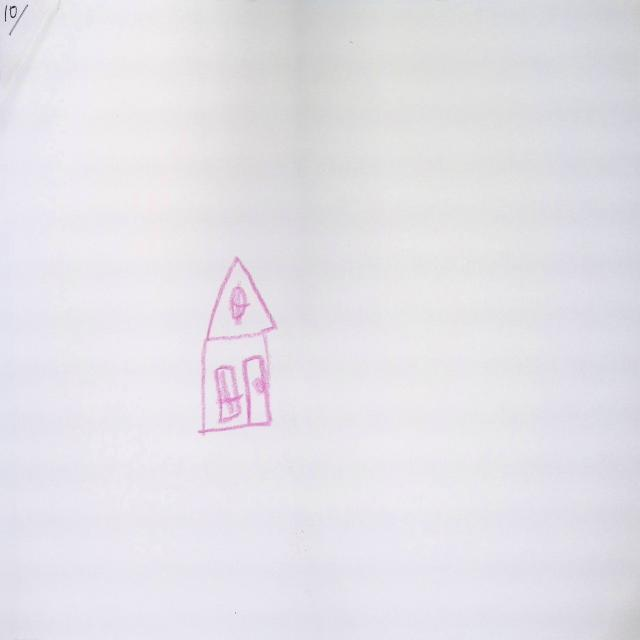door: (242, 356, 271, 426)
house: (199, 258, 277, 434)
roof: (206, 258, 276, 341)
wall: (203, 334, 272, 431)
window: (214, 366, 242, 424), (230, 286, 250, 324)
